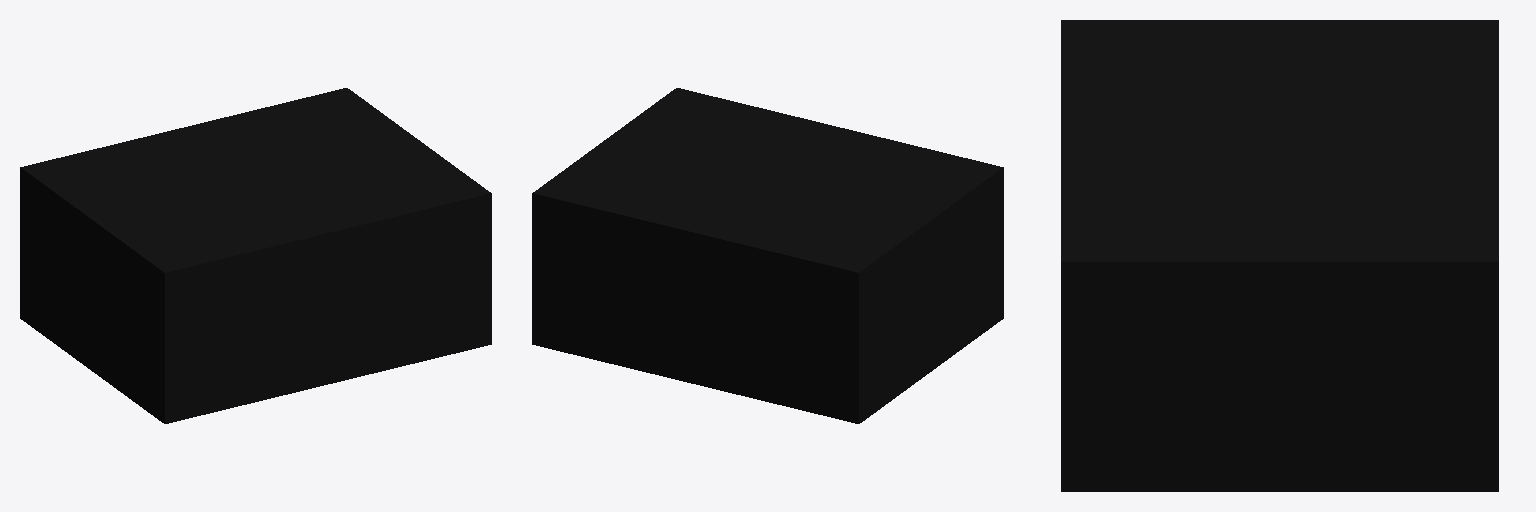
robot.urdf — imu_box:
<?xml version="1.0"?>
<robot name="imu_box">

  <material name="black"> <color rgba="0.1 0.1 0.1 1"/> </material>
  <material name="green"> <color rgba="0.0 0.8 0.0 1"/> </material>

  <link name="imu_box_base">
    <visual>
      <origin xyz="0 0 0.015" rpy="0 0 0"/>
      <geometry>
        <box size="0.0677 0.0518 0.030"/>
      </geometry>
      <material name="black"/>
    </visual>
  </link>

  <joint name="base_to_pcb_joint" type="fixed">
    <parent link="imu_box_base"/>
    <child link="imu_pcb"/>
    <origin xyz="0 0 0.021" rpy="0 0 0"/>
  </joint>

  <link name="imu_pcb">
    <visual>
      <geometry>
        <box size="0.02 0.02 0.002"/> </geometry>
      <material name="green"/>
    </visual>
  </link>

  <joint name="pcb_to_sensor_joint" type="fixed">
    <parent link="imu_pcb"/>
    <child link="imu_link"/>
    <origin xyz="0 0 0.001" rpy="0 0 0"/> 
  </joint>

  <link name="imu_link">
    </link>

</robot>

--- What the picture shows (computed from the rendered views, not written in the file) ---
3 views of the same robot in one strip: view 1: azimuth 30°, elevation 25°; view 2: azimuth 150°, elevation 25°; view 3: azimuth 270°, elevation 25° (orthographic).
Model imu_box with 3 links and 2 joints (2 fixed), rooted at imu_box_base, posed every joint at zero.
Visible links, largest first — view 1: imu_box_base; view 2: imu_box_base; view 3: imu_box_base.
Boxes of the visible links, left/top/right/bottom form: imu_box_base: left=20, top=88, right=491, bottom=423; imu_box_base: left=532, top=88, right=1003, bottom=423; imu_box_base: left=1061, top=20, right=1498, bottom=491.
Size in the robot's own frame: 0.0677 by 0.0518 by 0.03 metres.
Geometry: primitives only (box / cylinder / sphere), no mesh files.
